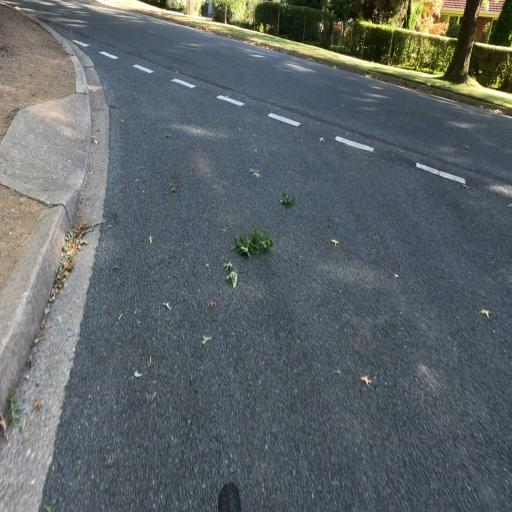kerb_cut: (8, 97, 97, 201)
